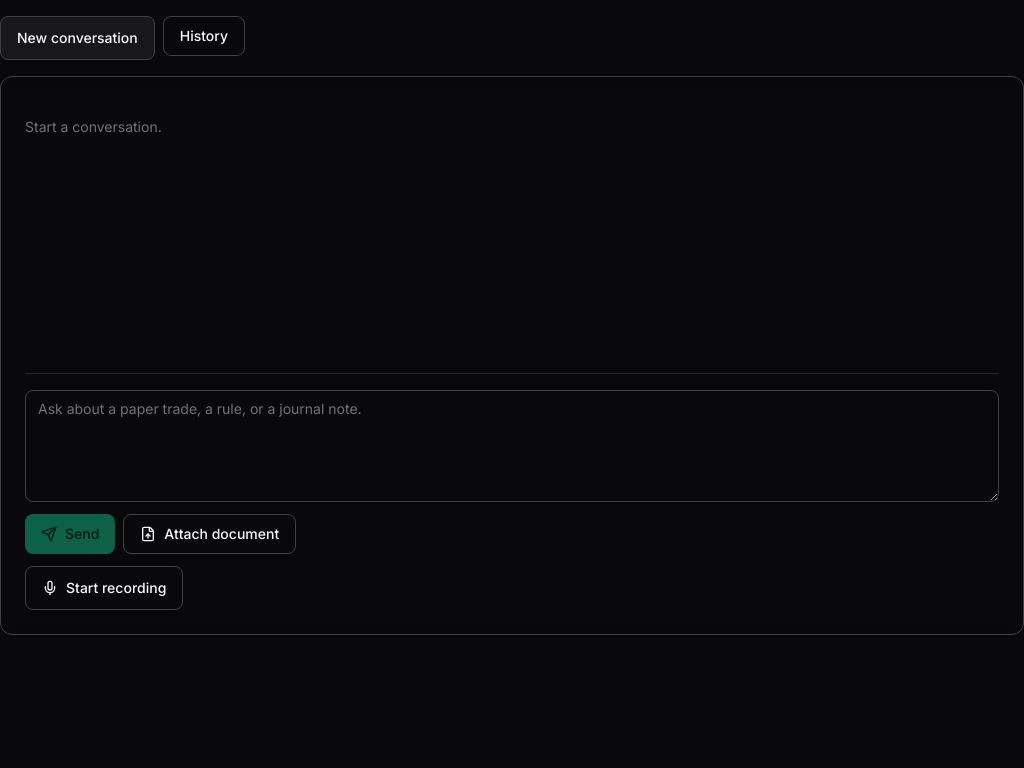
Test case: Agent workspace › shows a completed turn even when its history reload stalls
Click the button "Start recording" at (104, 588), box [25,566,183,610]
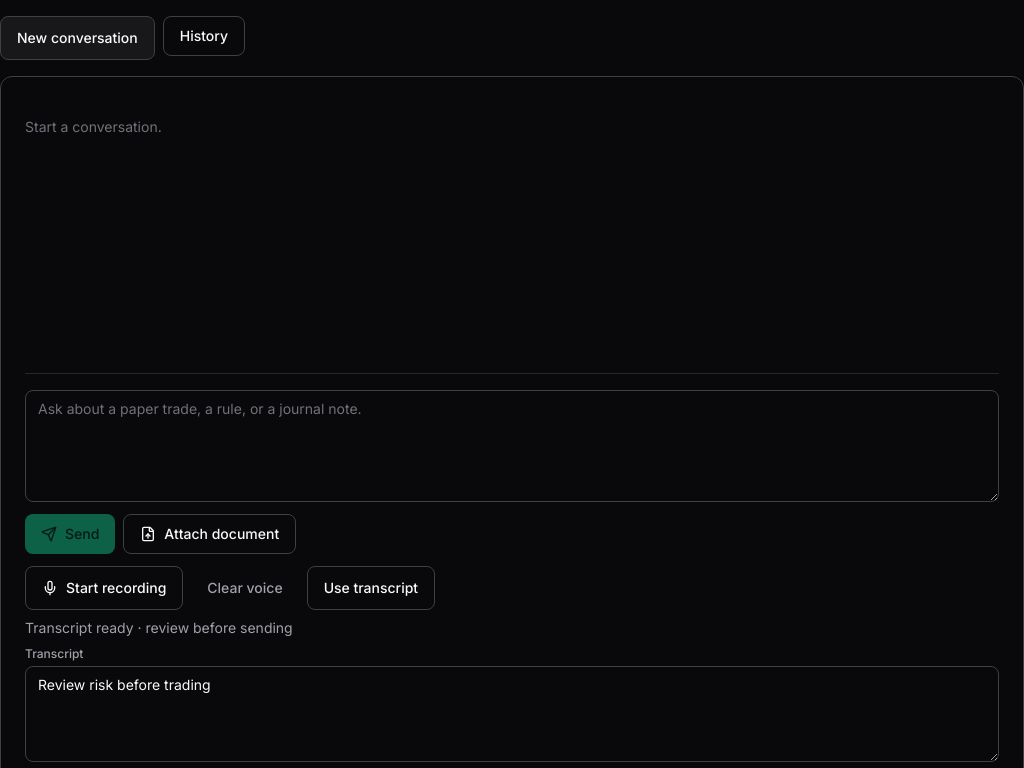
Click the button "Use transcript" at (371, 588), box [307,566,435,610]
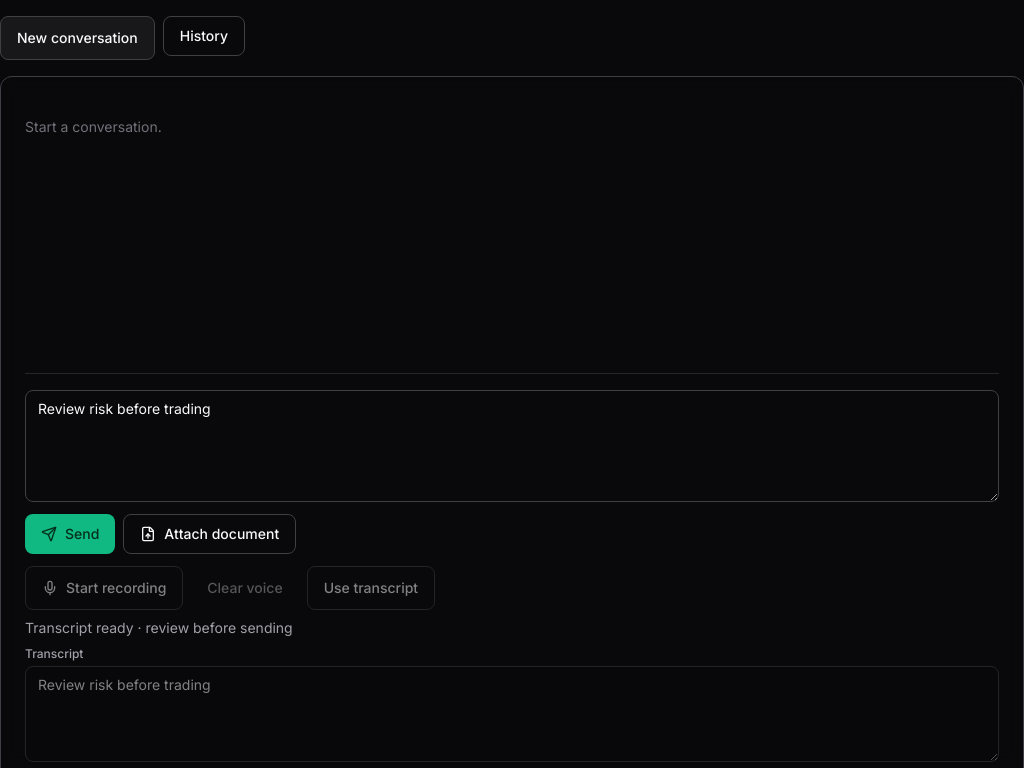
Click the button "Send" at (70, 534), box [25,514,115,554]
Wait 180000 ms
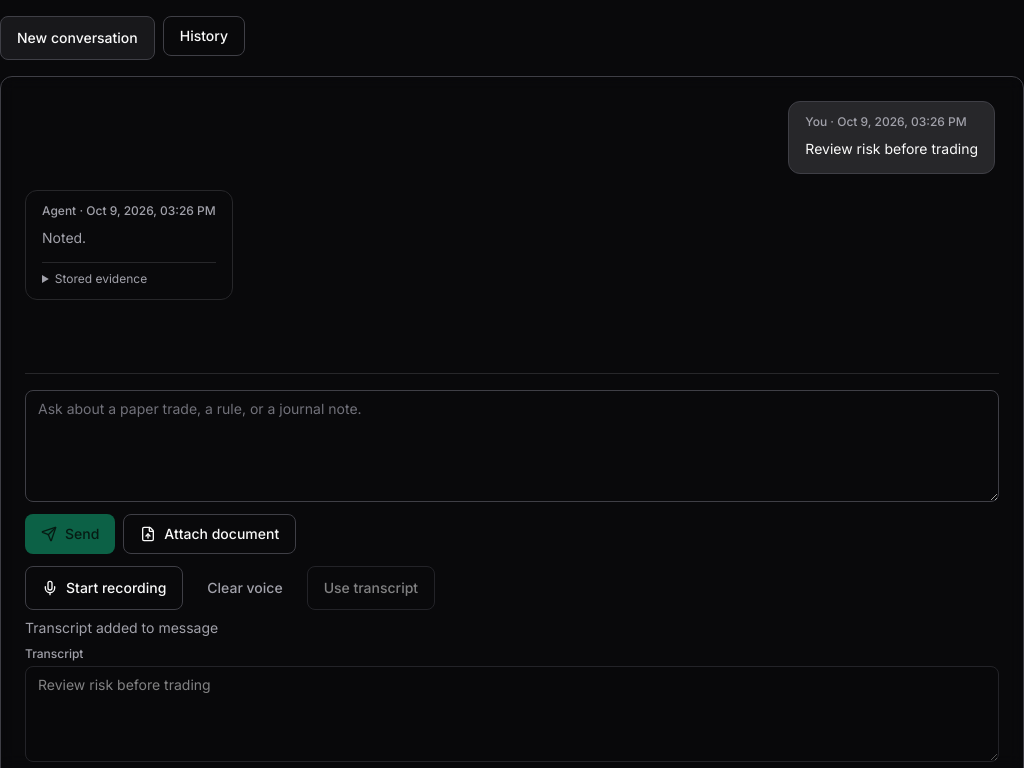
Expected: the text box named "Message" is empty, [25,390,999,502]
Expected: the element with test id "agent-message" shows "Stored evidence", [55,270,147,286]
